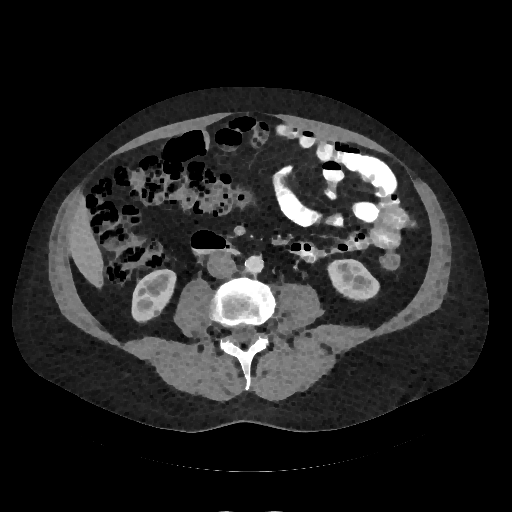Lesion: (152, 306, 163, 317)
